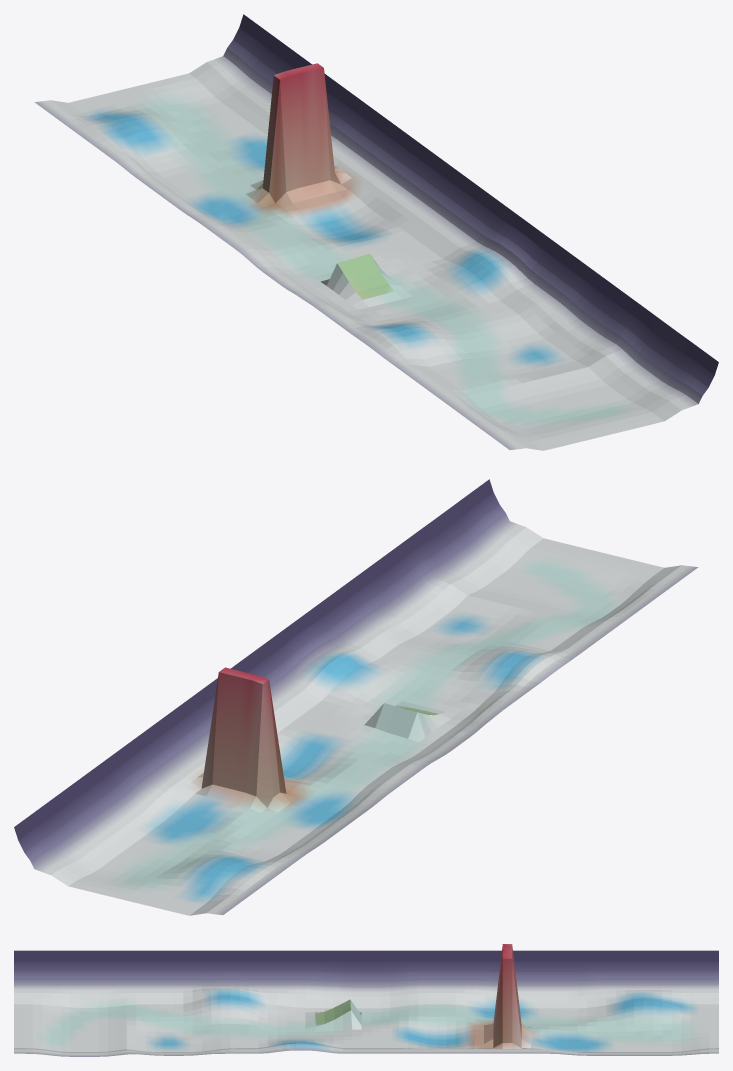
File: Level-Kit.glb
3 views of the same model, one above another, from view 1: azimuth 30°, elevation 25°; view 2: azimuth 150°, elevation 25°; view 3: azimuth 270°, elevation 25° (orthographic). The views are drawn at different scales.
Visible parts, largest first — view 1: Kit_02; view 2: Kit_02; view 3: Kit_02.
Part boxes in pixels (x1,y1,x2,y2): Kit_02: [34, 14, 718, 450]; Kit_02: [14, 479, 698, 915]; Kit_02: [14, 944, 718, 1056].
Size of the model in its own units: 41.8 by 21.83 by 150.
